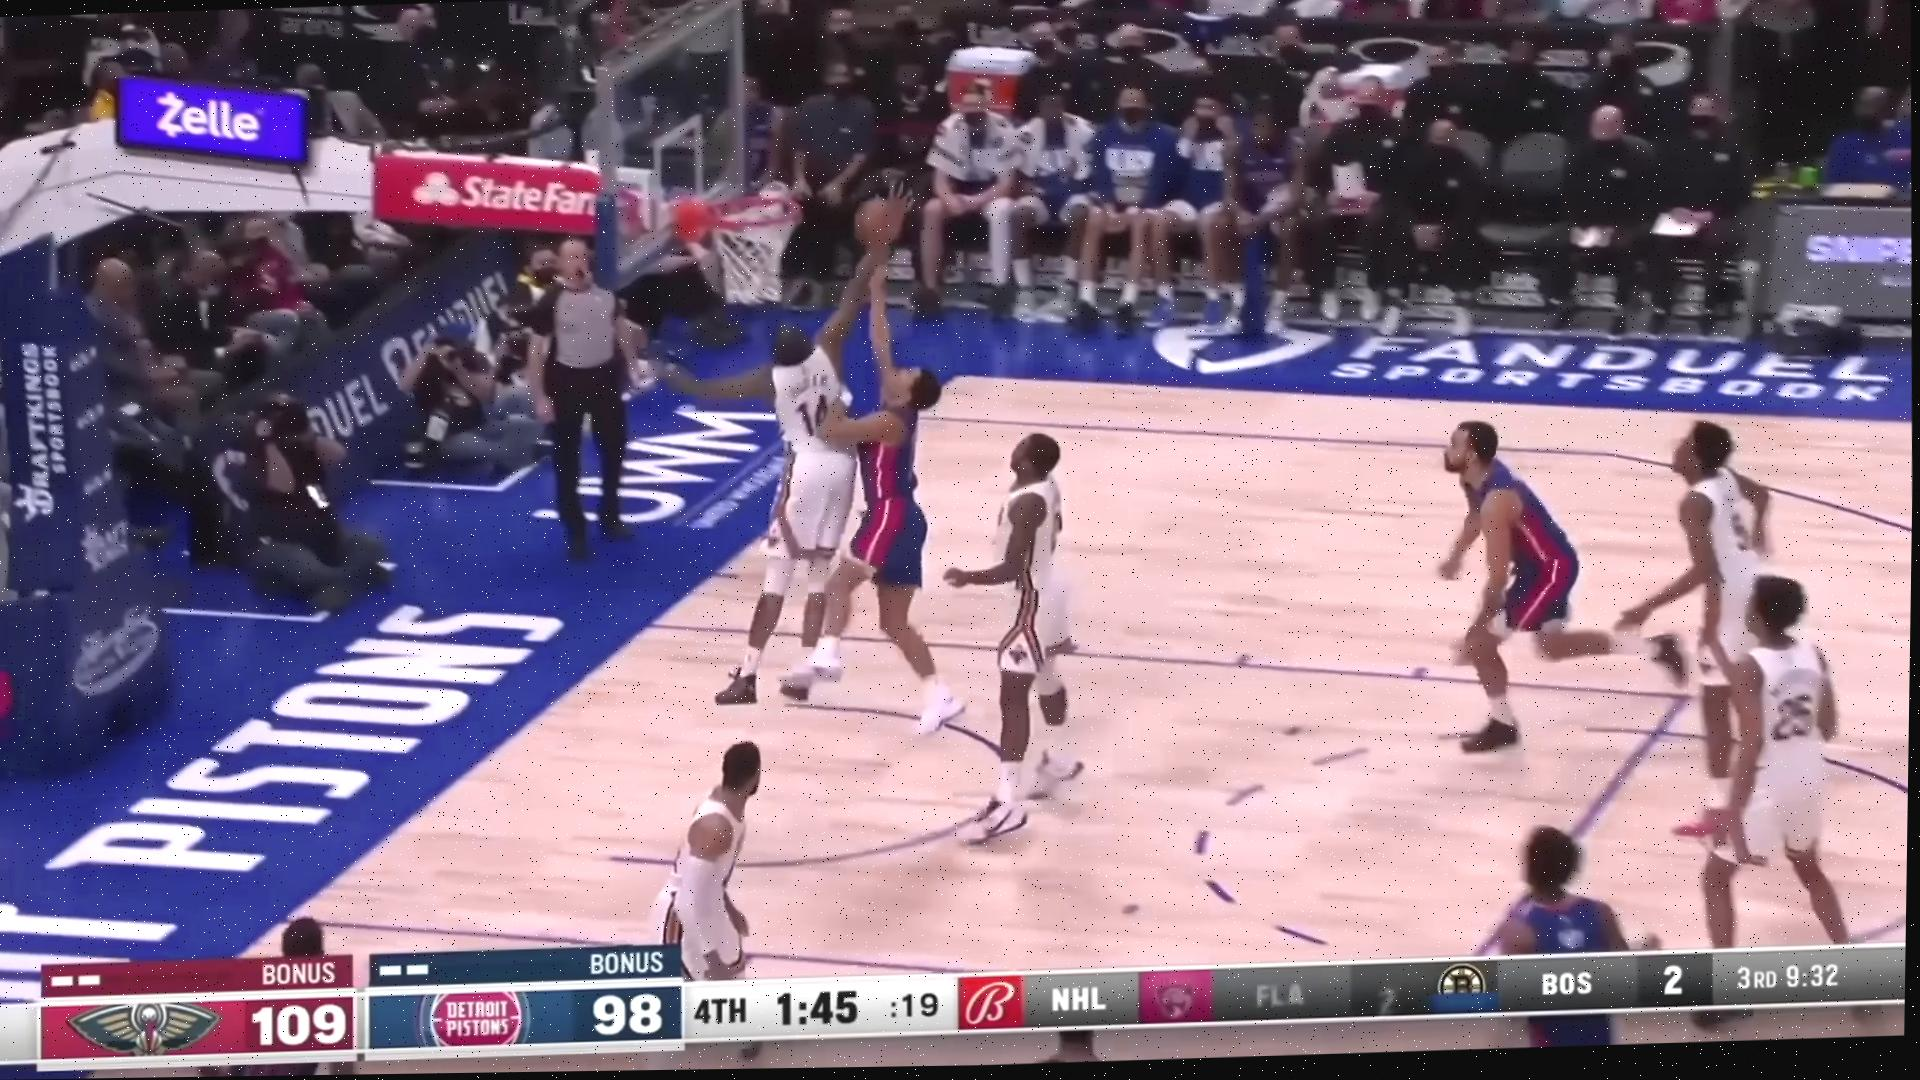foul: (688, 206, 985, 753)
